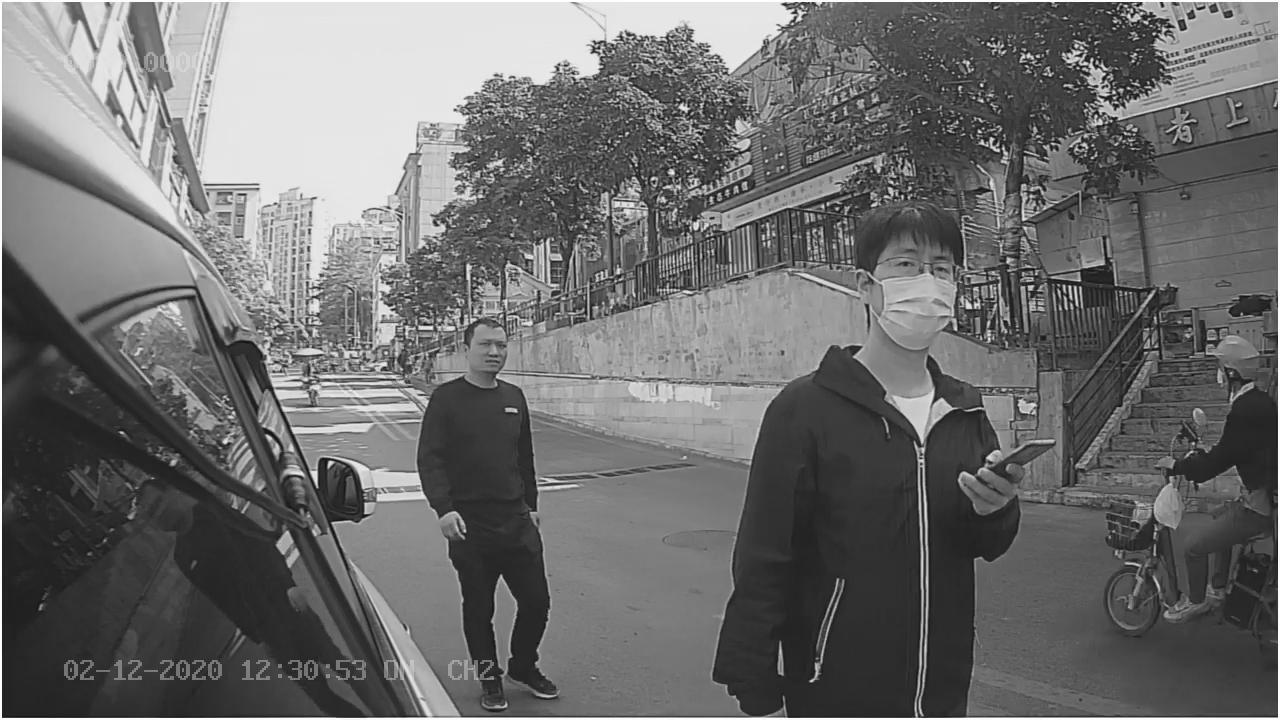person: (726, 203, 1026, 562), (413, 306, 550, 543)
